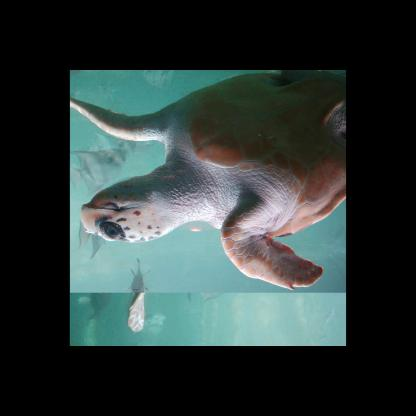turtle: (70, 68, 346, 310)
